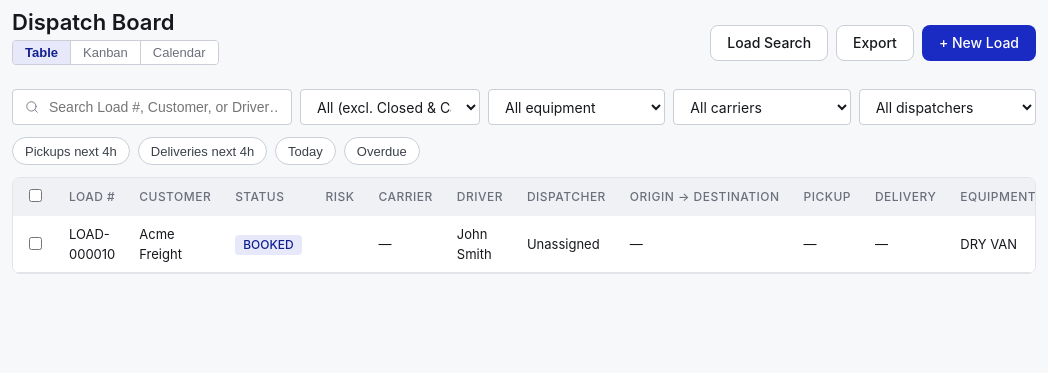
it: DispatchBoardPage — Dispatch Board Driver visibility › kanban view › shows the assigned driver name on the card
Expected: the text "LOAD-000010" is shown, [57,216,127,272]
Step 1. Click the button "Kanban" → x=105, y=52, box [70,41,140,64]
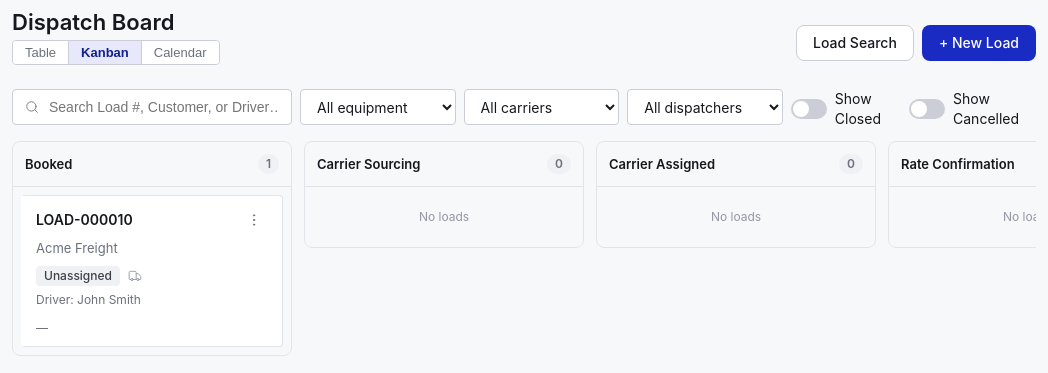
Expected: the text "Driver: John Smith" is shown, [36,292,141,307]
